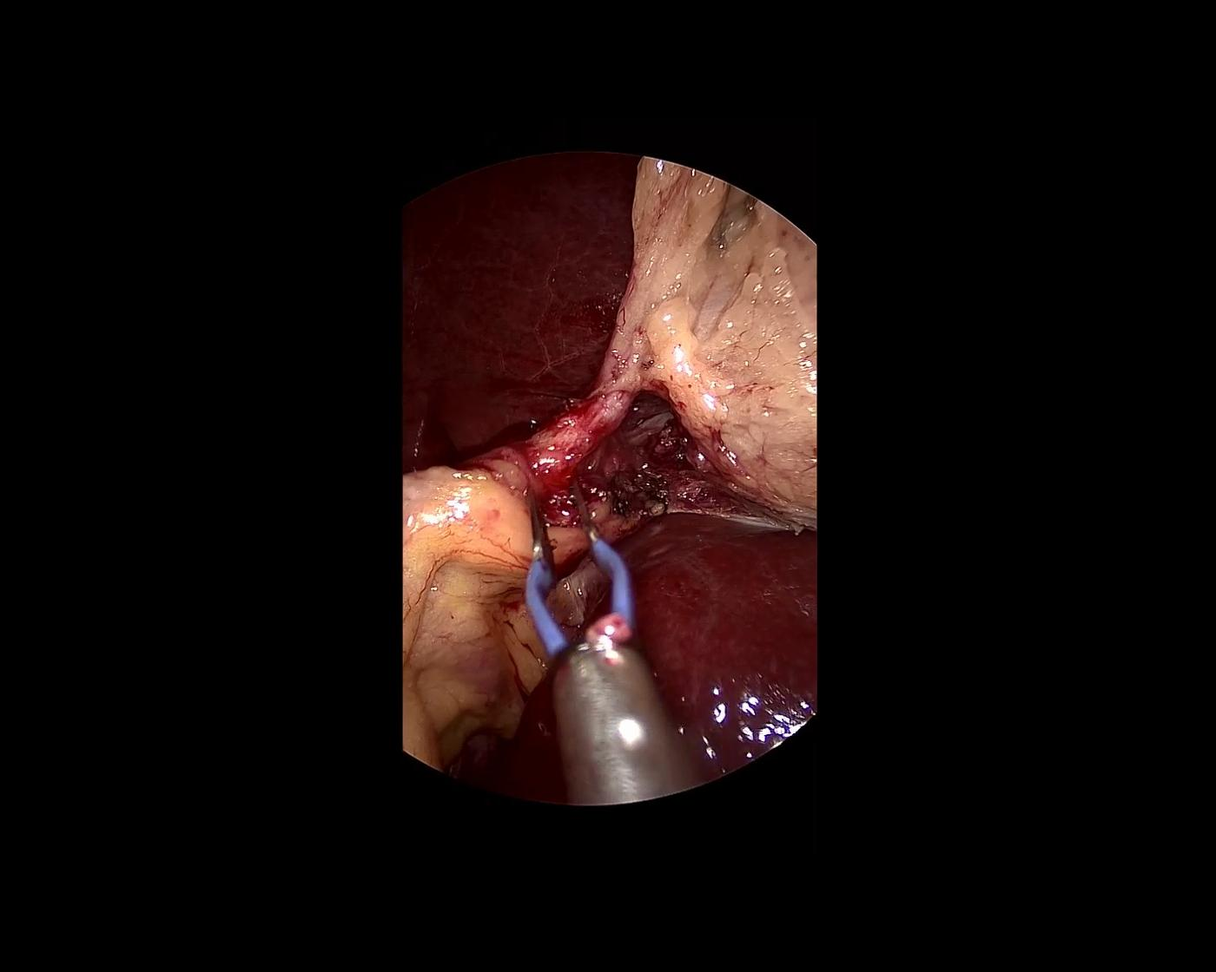Allis: (476, 471, 693, 824)
Gallbladder: (620, 159, 816, 528)
Liver: (401, 156, 636, 470), (616, 501, 814, 787)
